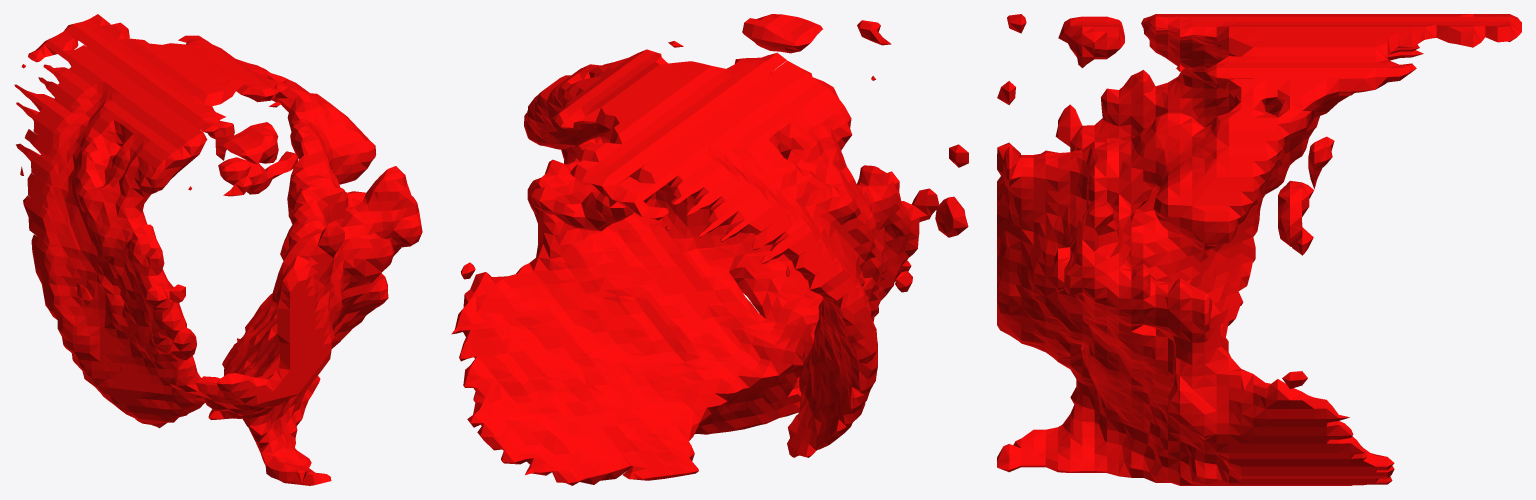
File: B939XXXX-1_valve_10.obj
The picture shows the model from 3 angles, left to right: view 1: azimuth 30°, elevation 25°; view 2: azimuth 150°, elevation 25°; view 3: azimuth 270°, elevation 25°; orthographic projection. The views are drawn at different scales.
Parts seen in each view (by area): view 1: 10_valve; view 2: 10_valve; view 3: 10_valve.
Part boxes in pixels (x1=…): 10_valve: x1=14, y1=14, x2=422, y2=485; 10_valve: x1=451, y1=14, x2=968, y2=485; 10_valve: x1=997, y1=14, x2=1521, y2=485.
Size of the model in its own units: 77.98 by 76.97 by 85.95.
